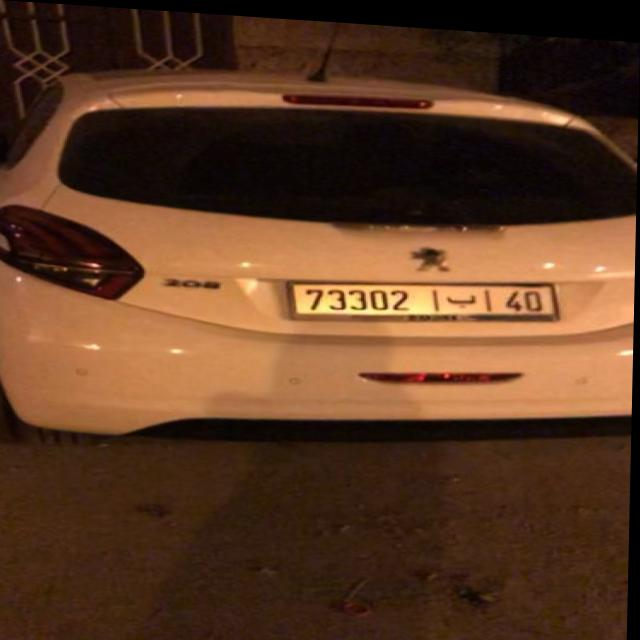License-Plate: (292, 276, 560, 313)
